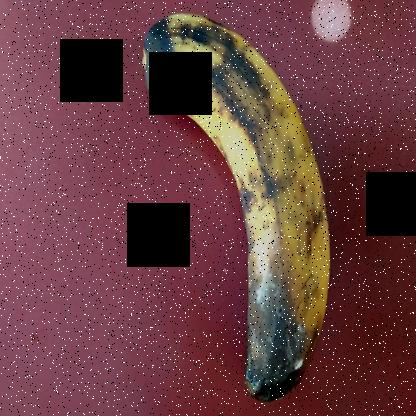rotten: (134, 2, 364, 415)
